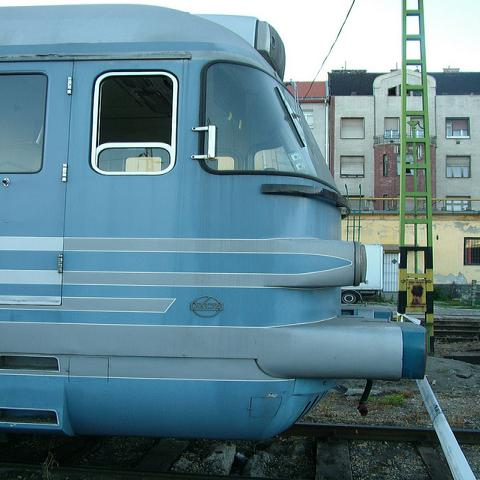truck: (341, 245, 383, 304)
